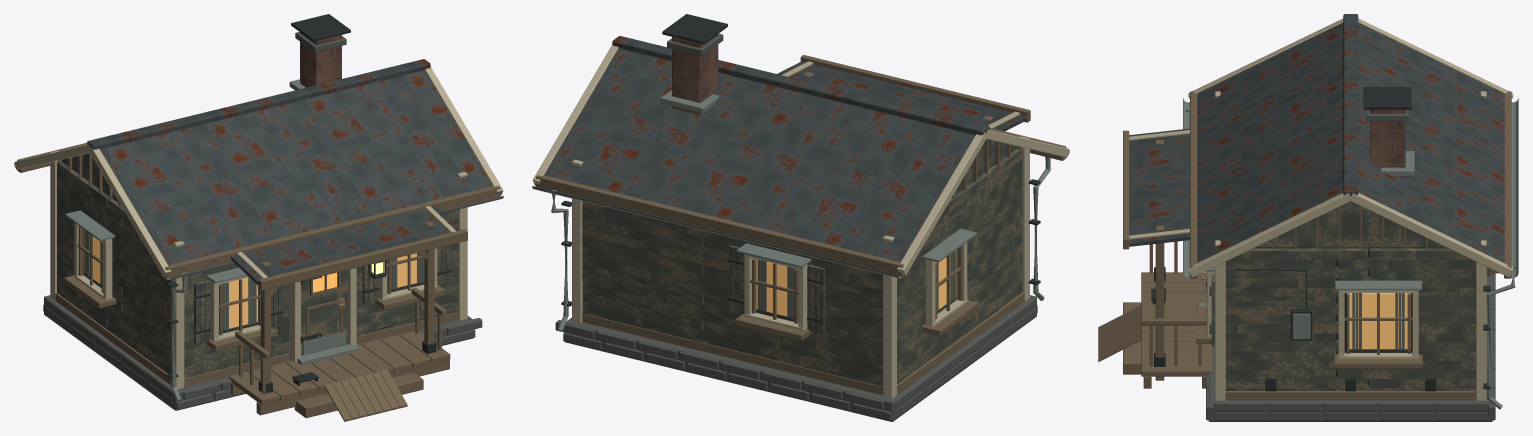
File: keeper_cabin_v01.glb
3 renders of one model, left to right at view 1: azimuth 30°, elevation 25°; view 2: azimuth 150°, elevation 25°; view 3: azimuth 270°, elevation 25°, orthographic. The views are drawn at different scales.
Parts seen in each view (by area): view 1: KC_Roof, KC_Structure, KC_Porch, KC_Windows, KC_Door, KC_Chimney, KC_Details; view 2: KC_Roof, KC_Structure, KC_Windows, KC_Chimney, KC_Porch, KC_Details; view 3: KC_Roof, KC_Structure, KC_Porch, KC_Windows, KC_Chimney, KC_Details.
Boxes of the visible parts, x1=… form: KC_Roof: x1=14, y1=59, x2=503, y2=285; KC_Structure: x1=43, y1=150, x2=482, y2=410; KC_Porch: x1=229, y1=206, x2=467, y2=421; KC_Windows: x1=64, y1=210, x2=452, y2=350; KC_Door: x1=300, y1=270, x2=347, y2=355; KC_Chimney: x1=289, y1=14, x2=350, y2=90; KC_Details: x1=167, y1=272, x2=454, y2=401; KC_Roof: x1=532, y1=36, x2=1069, y2=278; KC_Structure: x1=555, y1=136, x2=1037, y2=421; KC_Windows: x1=728, y1=228, x2=978, y2=340; KC_Chimney: x1=660, y1=14, x2=727, y2=114; KC_Porch: x1=781, y1=55, x2=1030, y2=128; KC_Details: x1=551, y1=157, x2=1050, y2=331; KC_Roof: x1=1129, y1=14, x2=1518, y2=278; KC_Structure: x1=1197, y1=91, x2=1495, y2=421; KC_Porch: x1=1098, y1=130, x2=1212, y2=388; KC_Windows: x1=1196, y1=267, x2=1499, y2=368; KC_Chimney: x1=1363, y1=87, x2=1414, y2=178; KC_Details: x1=1185, y1=108, x2=1515, y2=409.
Size of the model in its own units: 6.83 by 5.21 by 6.82.
14 materials, 3 textured.
